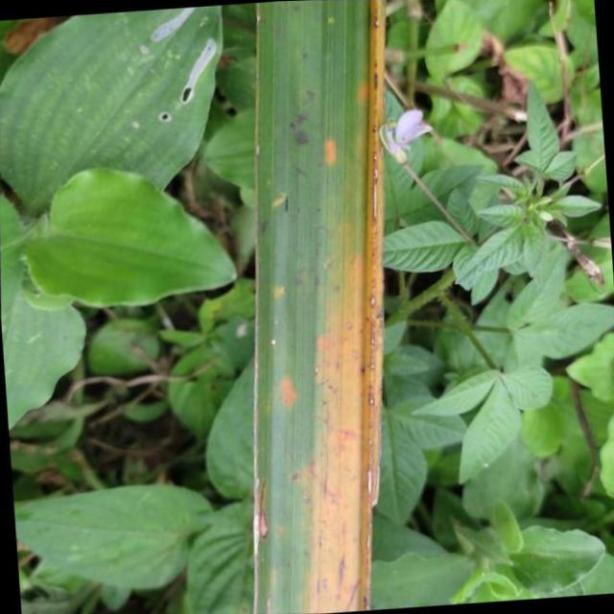Megnesium: (248, 0, 387, 614)
